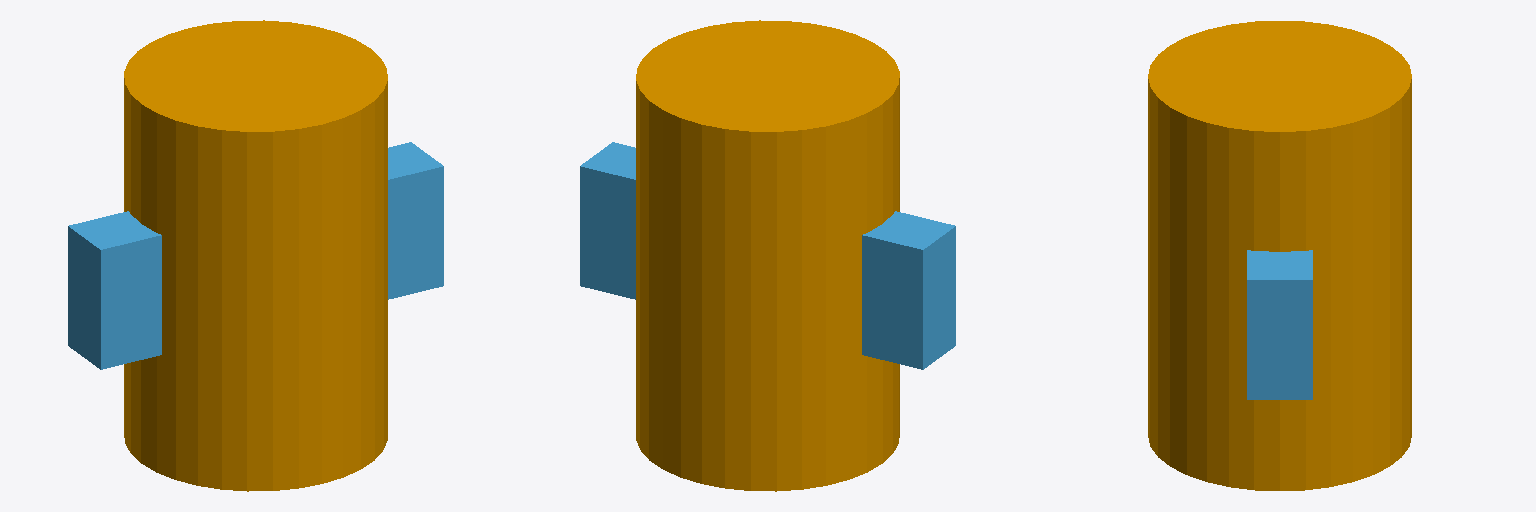
URDF robot description (multipleshapes):
<?xml version="1.0"?>
<robot name="multipleshapes">

    <link name="base_link">
        <visual>
            <geometry>
                <cylinder length="0.6" radius="0.2"/>
            </geometry>
        </visual>
    </link>

    <link name="right_leg">
        <visual>
            <geometry>
                <box size="0.6 0.1 0.2"/>
            </geometry>
        </visual>
    </link>

    <joint name="base_to_right_leg" type="fixed">
        <parent link="base_link"/>
        <child link="right_leg"/>
    </joint>

</robot>

--- Render facts (derived) ---
Views: 3 orthographic renders of the robot side by side, from view 1: azimuth 30°, elevation 25°; view 2: azimuth 150°, elevation 25°; view 3: azimuth 270°, elevation 25°.
Robot: multipleshapes — 2 links, 1 joints (1 fixed); root link base_link; default pose: every joint at zero.
Visible links, largest first — view 1: base_link, right_leg; view 2: base_link, right_leg; view 3: base_link, right_leg.
Boxes of the visible links, left/top/right/bottom form: base_link: left=124, top=20, right=387, bottom=491; right_leg: left=68, top=142, right=443, bottom=369; base_link: left=636, top=20, right=899, bottom=491; right_leg: left=580, top=142, right=955, bottom=369; base_link: left=1148, top=21, right=1411, bottom=490; right_leg: left=1247, top=250, right=1312, bottom=399.
Size in the robot's own frame: 0.6 by 0.4 by 0.6 metres.
Geometry: primitives only (box / cylinder / sphere), no mesh files.